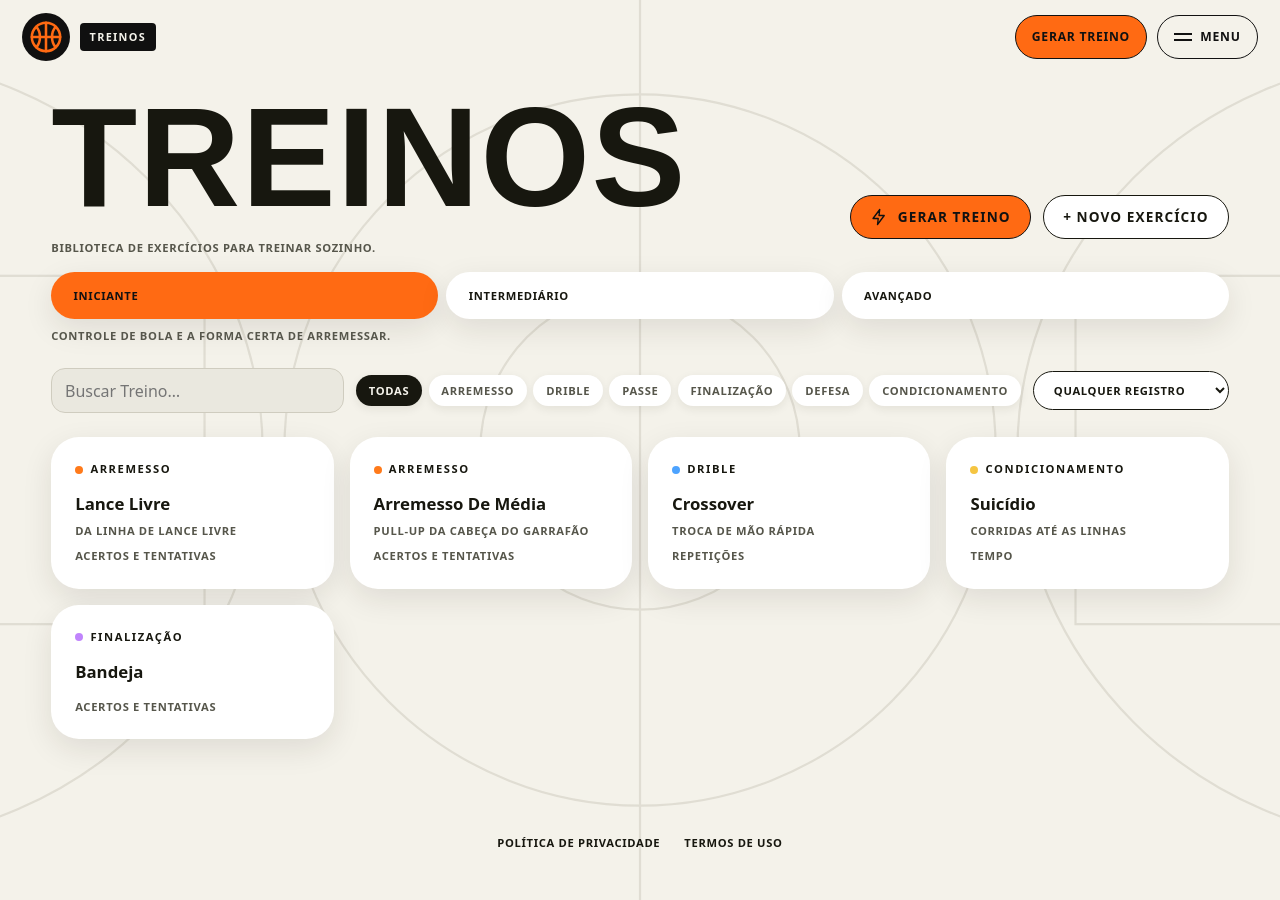
Test: Biblioteca de treinos › filtra por categoria e por forma de registro, e os filtros se somam
Expected: the heading "Lance livre" is shown, [75,492,170,515]
Click the button "Arremesso": coordinates (478, 391) [428,376,527,406]
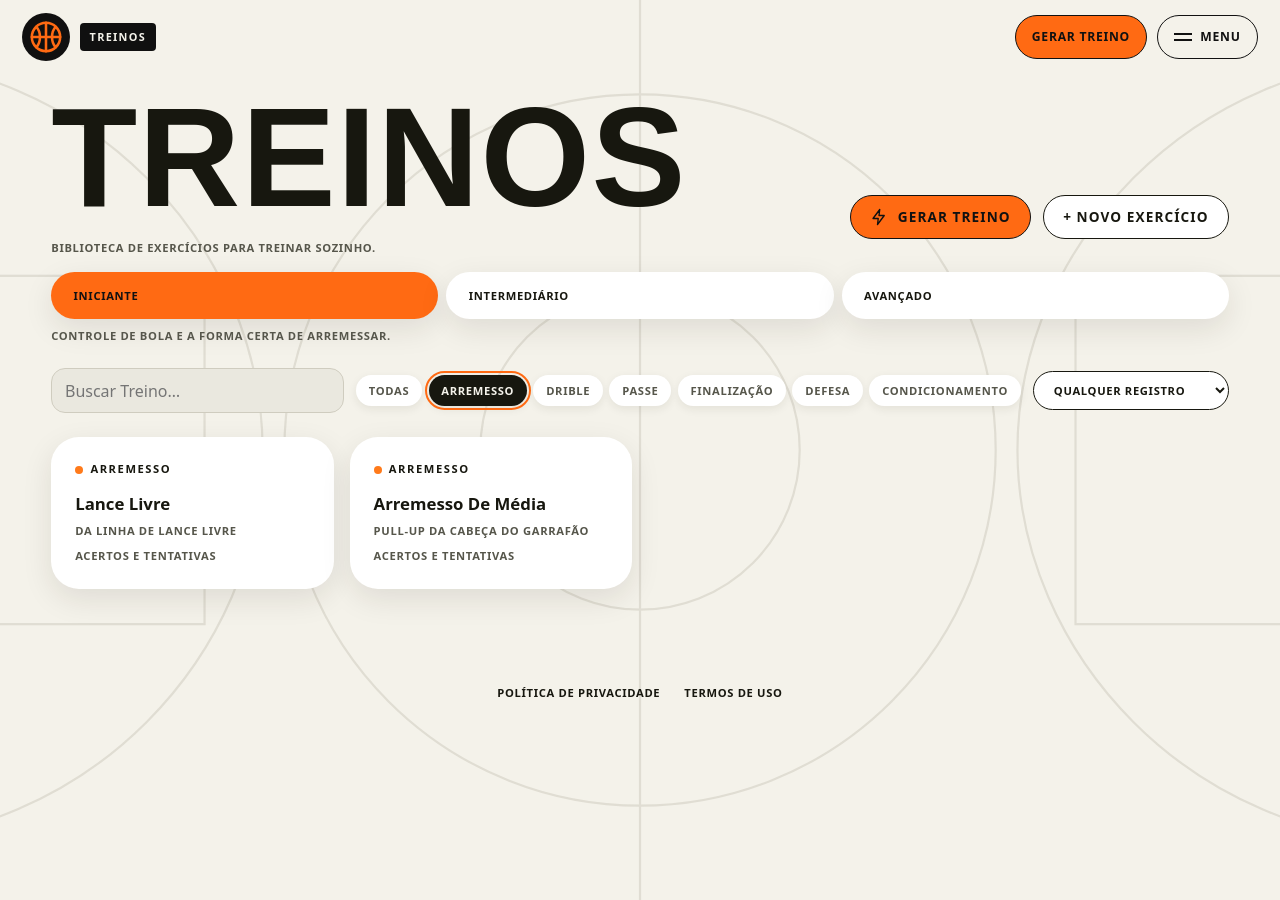
Click the button "Todas": coordinates (389, 391) [356,376,422,406]
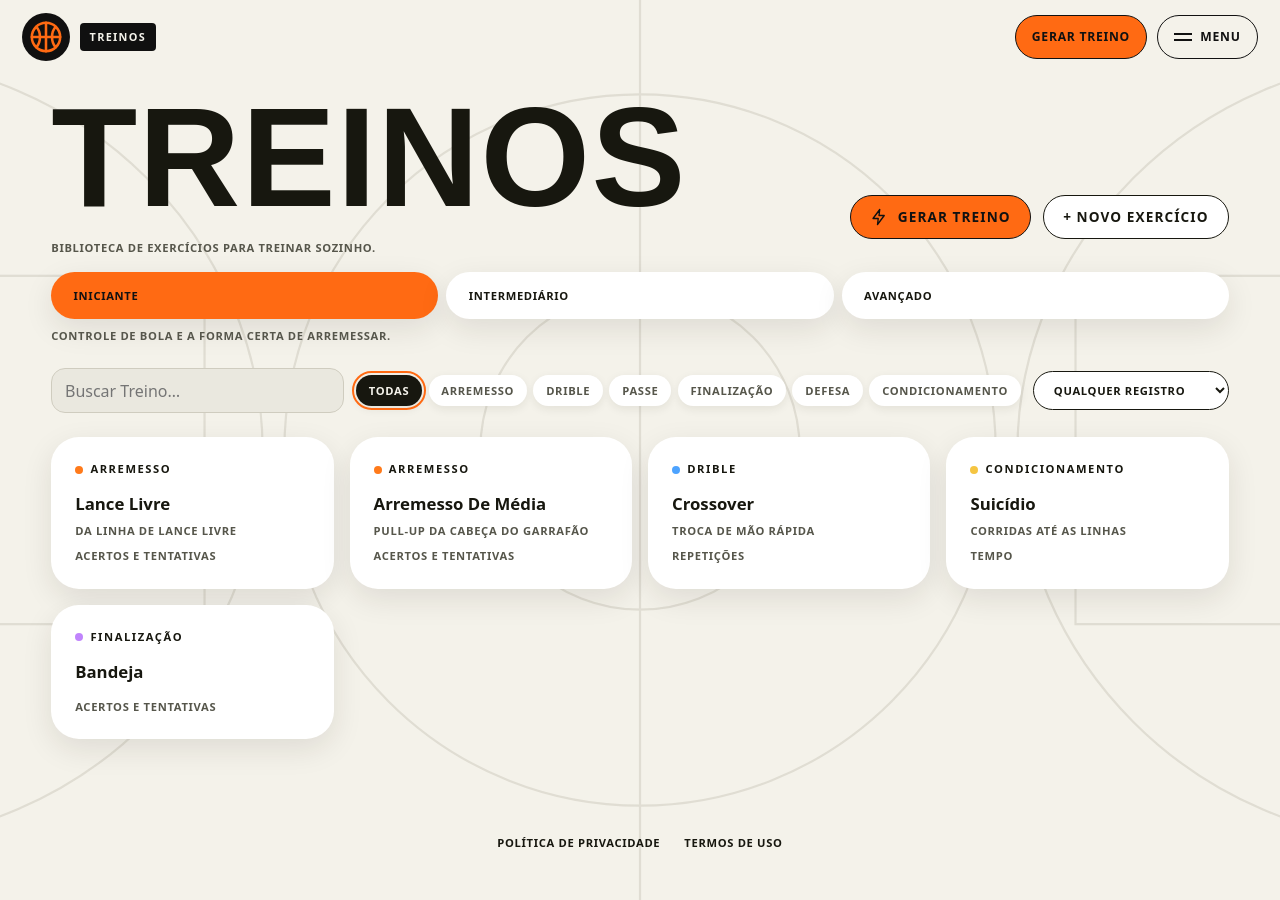
Select "Acertos e tentativas" in the dropdown: coordinates (1131, 390) [1033,371,1229,410]
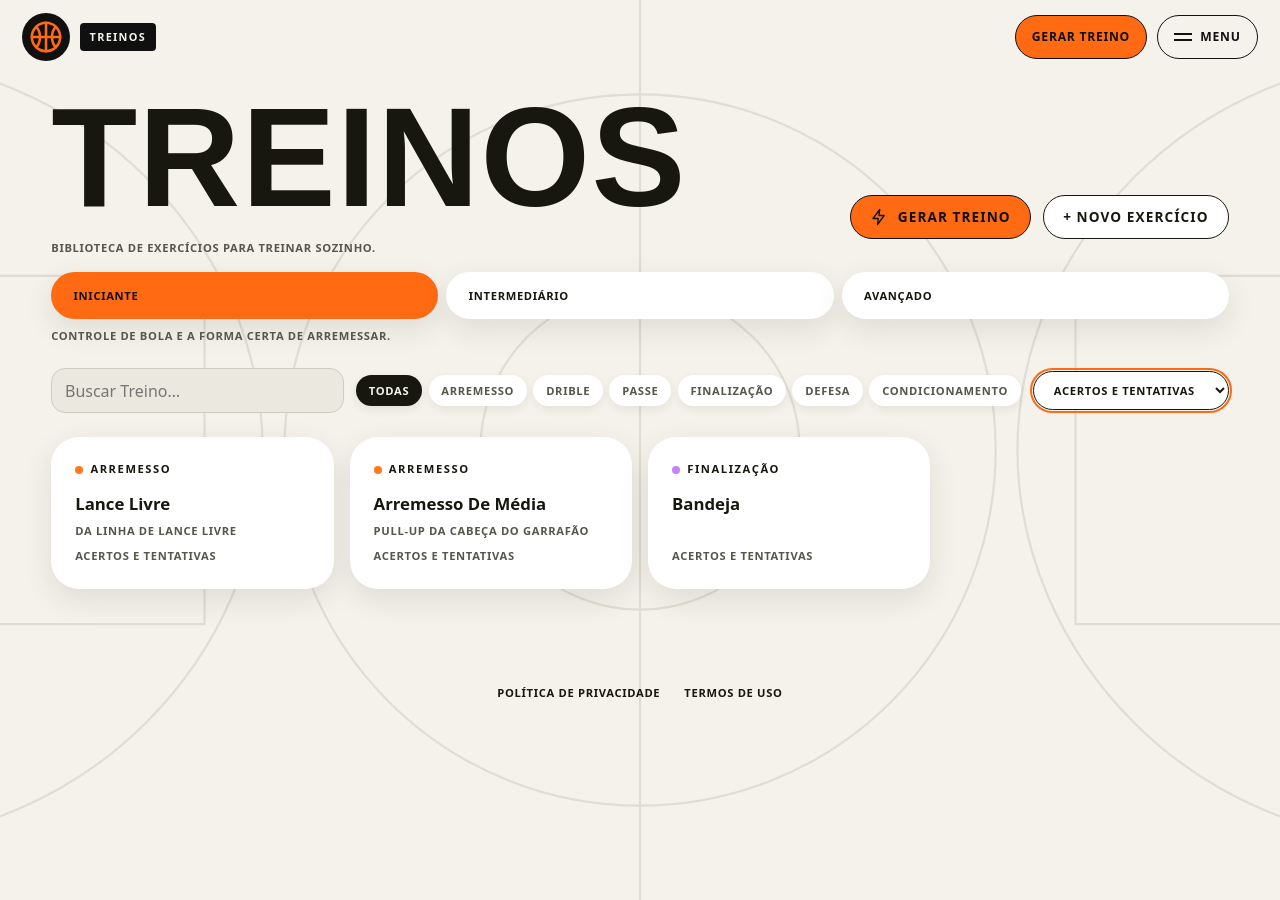
Click the button "Finalização": coordinates (732, 391) [678,376,786,406]
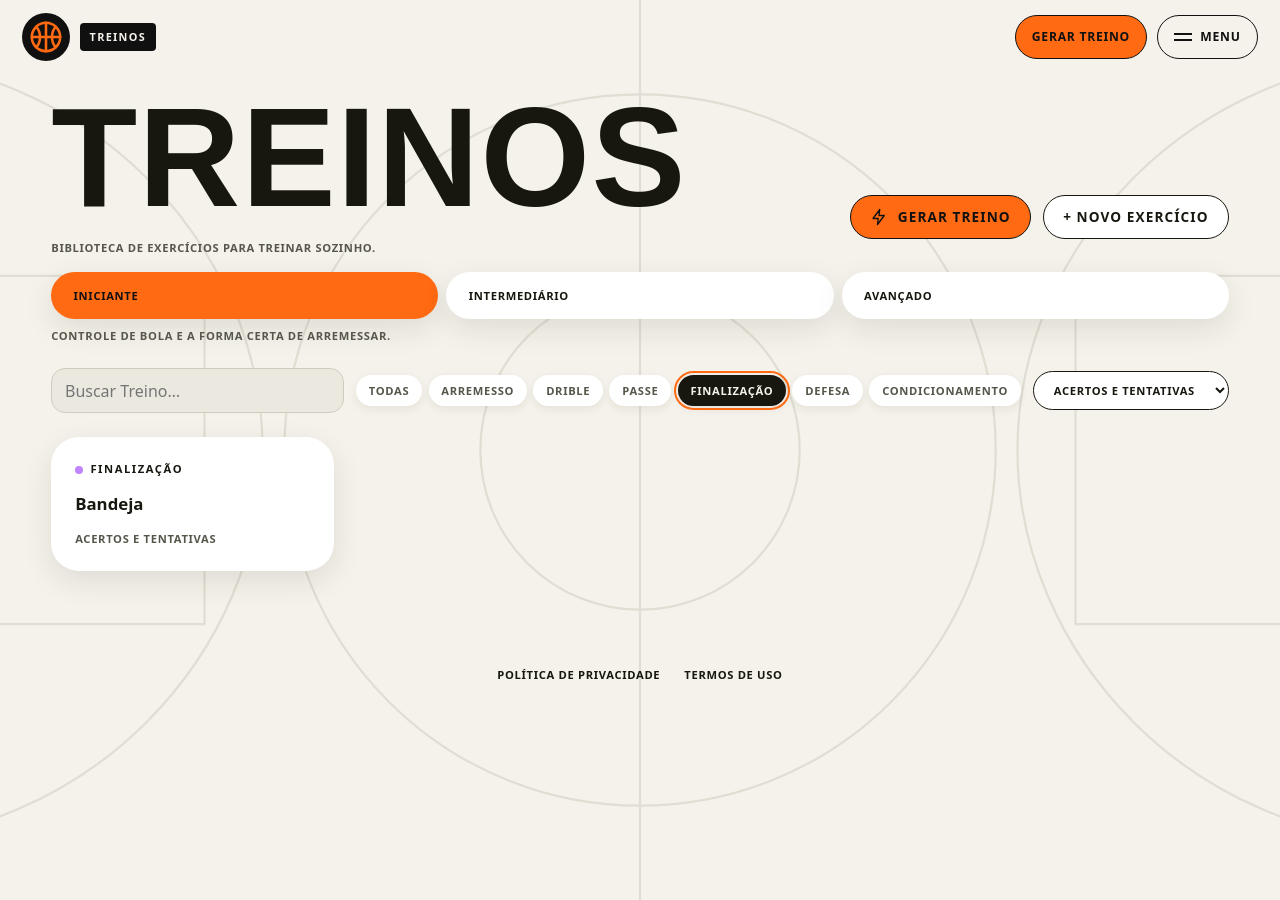
Click the button "Condicionamento": coordinates (945, 391) [869,376,1021,406]
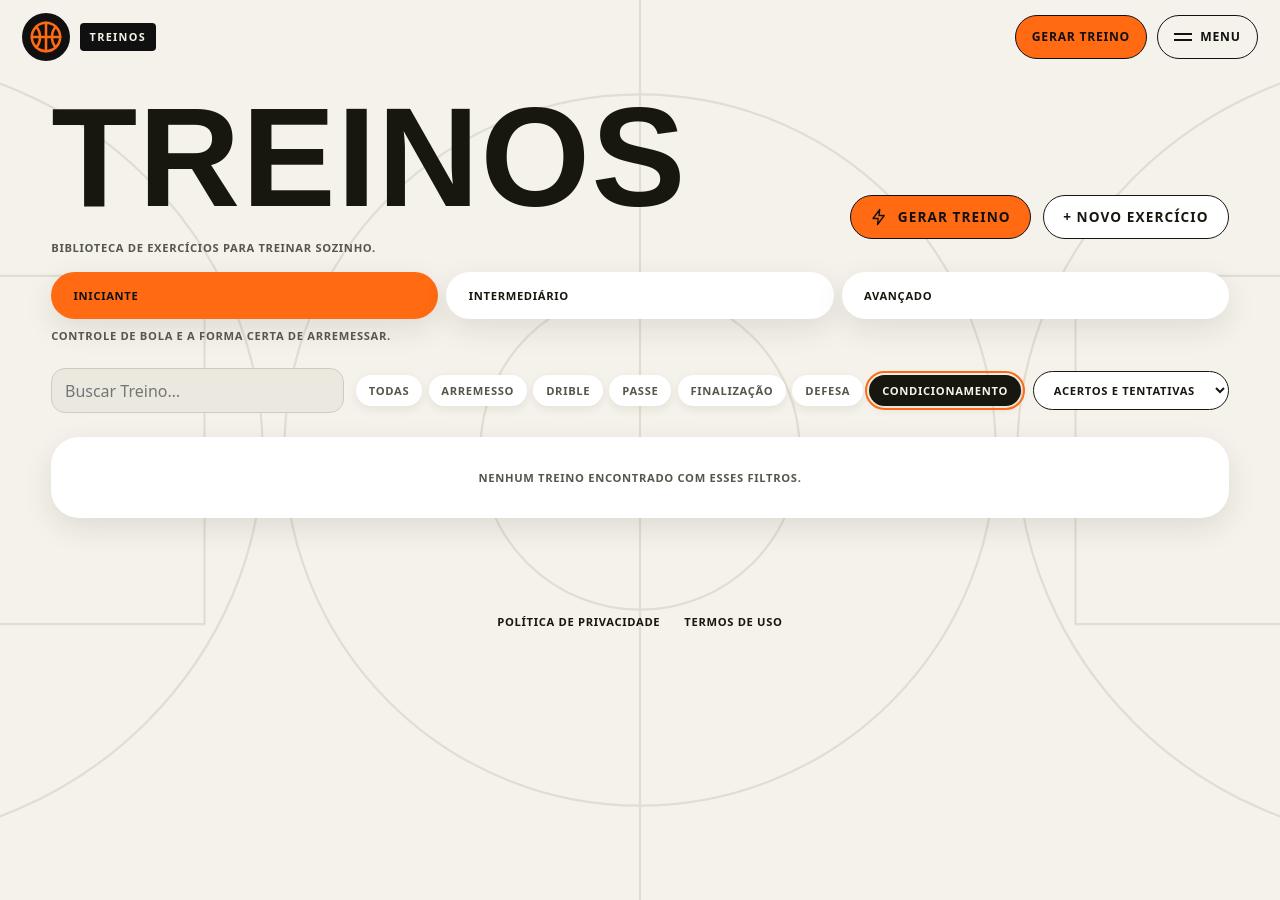
Expected: the text "Nenhum treino encontrado com esses filtros." is shown, [51,437,1229,518]
